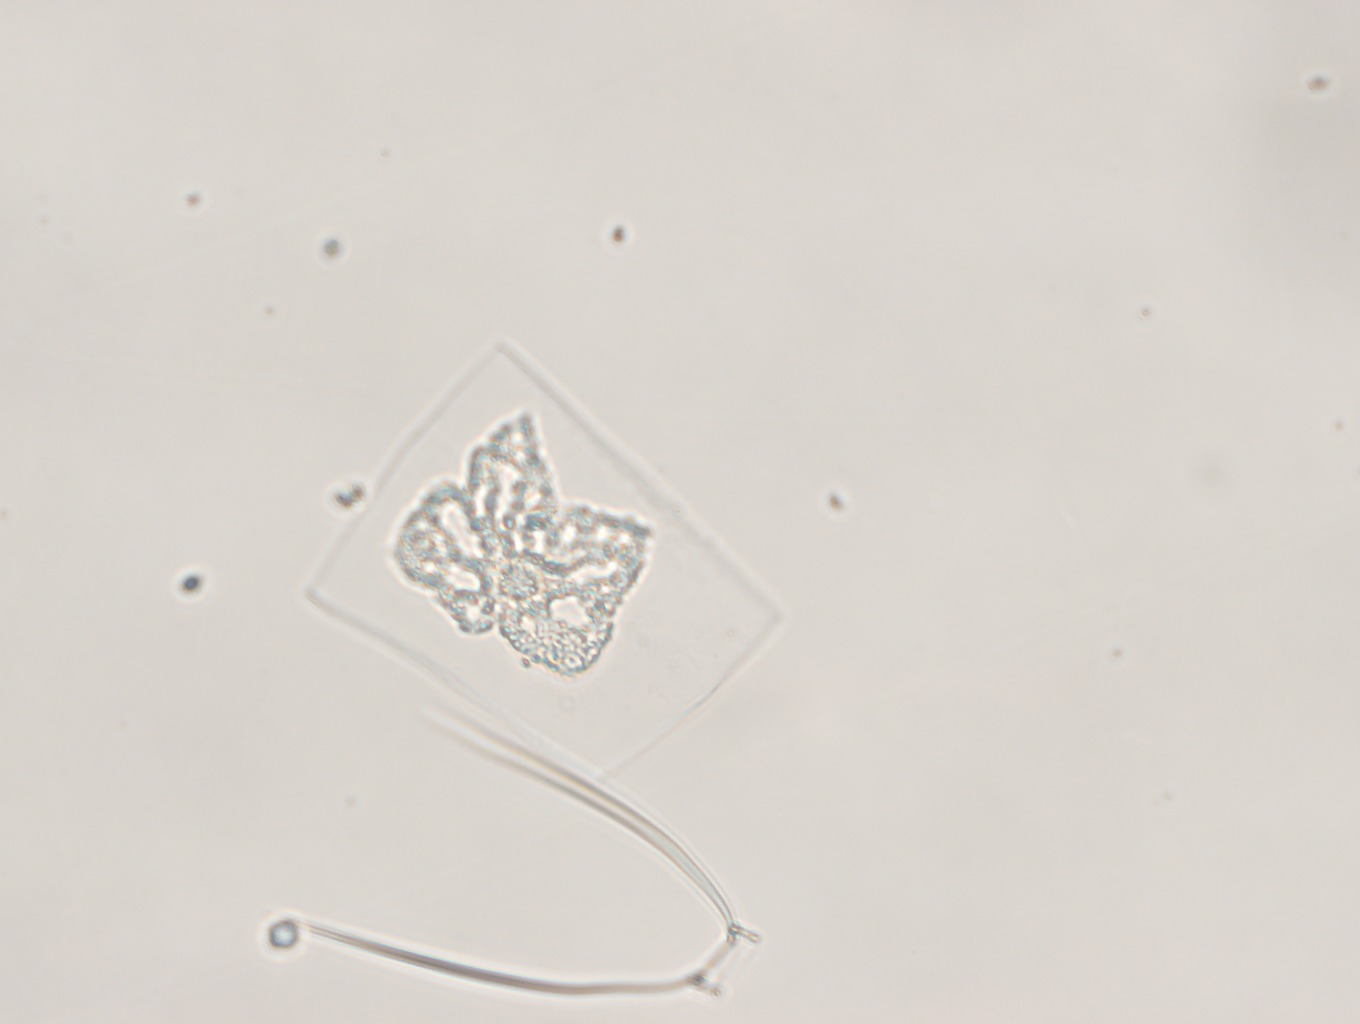chaetoceros: (305, 710, 762, 997)
helicotheca: (300, 341, 788, 781)
